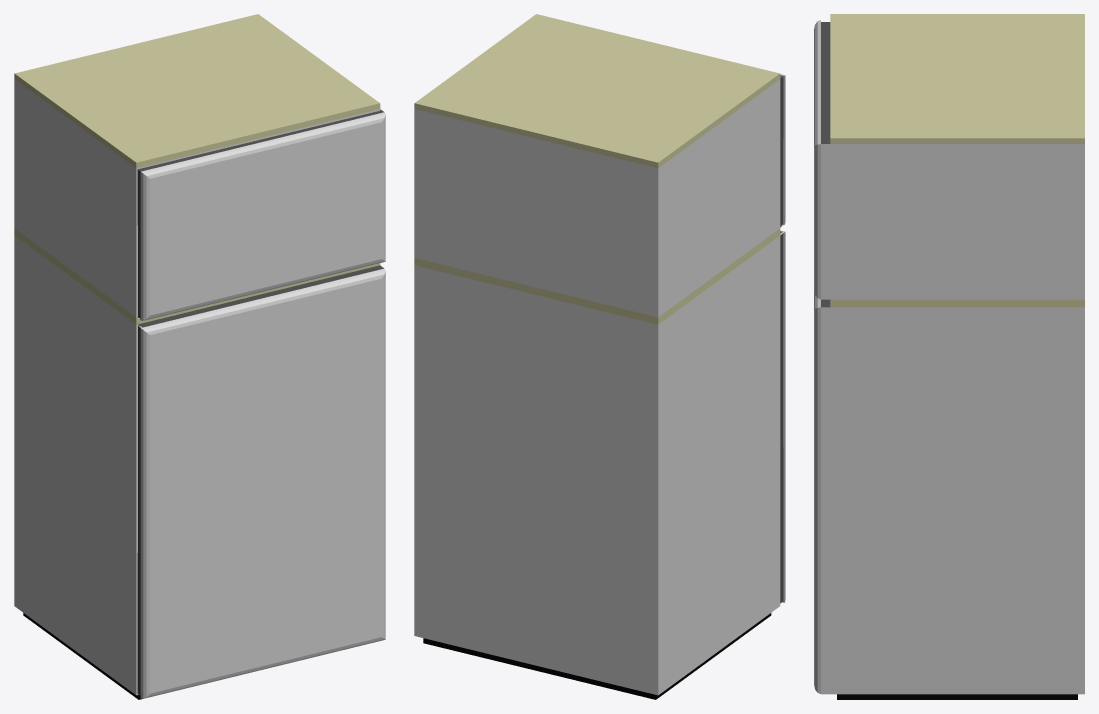
File: fridge.fbx
3 renders of one model, left to right at view 1: azimuth 30°, elevation 25°; view 2: azimuth 150°, elevation 25°; view 3: azimuth 270°, elevation 25°, orthographic. The views are drawn at different scales.
Parts seen in each view (by area): view 1: Fridge, FrdigeDoor, FreezerDoor; view 2: Fridge, FrdigeDoor, FreezerDoor; view 3: Fridge, FrdigeDoor, FreezerDoor.
Boxes of the visible parts, x1,y1,x2,y2 form: Fridge: (14, 14, 380, 699); FrdigeDoor: (136, 265, 385, 698); FreezerDoor: (137, 109, 385, 320); Fridge: (414, 14, 780, 699); FrdigeDoor: (780, 230, 785, 603); FreezerDoor: (780, 74, 785, 227); Fridge: (830, 14, 1084, 699); FrdigeDoor: (814, 291, 830, 694); FreezerDoor: (814, 20, 830, 299).
Size of the model in its own units: 200 by 424 by 184.
